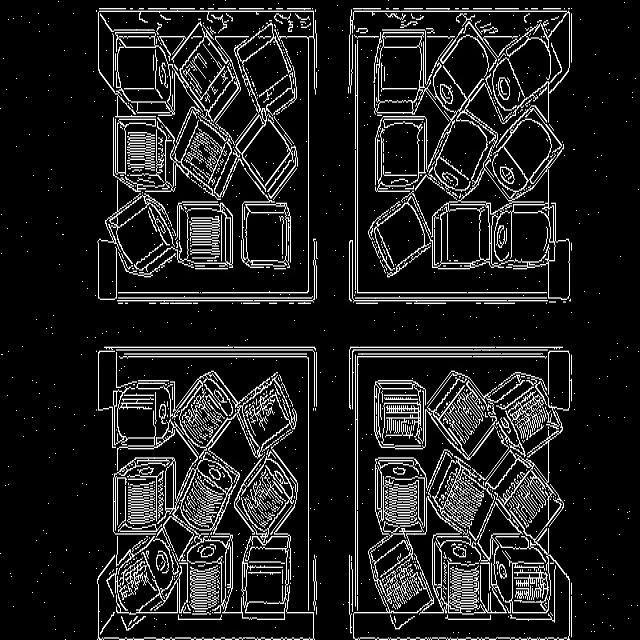Pump: (98, 531, 184, 635), (486, 22, 562, 123), (428, 372, 510, 463), (484, 449, 562, 543), (230, 435, 298, 537), (492, 107, 563, 204), (428, 20, 496, 120), (167, 22, 238, 117), (494, 532, 558, 634), (104, 195, 180, 279), (487, 373, 561, 457), (170, 451, 240, 539), (429, 112, 498, 200), (226, 539, 293, 629), (112, 108, 180, 195), (113, 453, 180, 541), (428, 449, 493, 539), (235, 108, 302, 195), (368, 533, 432, 623), (179, 528, 237, 627), (363, 198, 432, 281), (432, 526, 488, 627), (238, 365, 302, 453), (174, 366, 237, 454), (234, 23, 295, 109), (491, 199, 556, 279), (175, 107, 234, 192), (430, 196, 490, 278), (114, 36, 175, 116), (233, 197, 293, 276), (375, 30, 426, 115), (371, 460, 425, 539), (112, 380, 173, 449), (177, 201, 234, 273), (375, 117, 426, 192), (374, 380, 426, 451)
